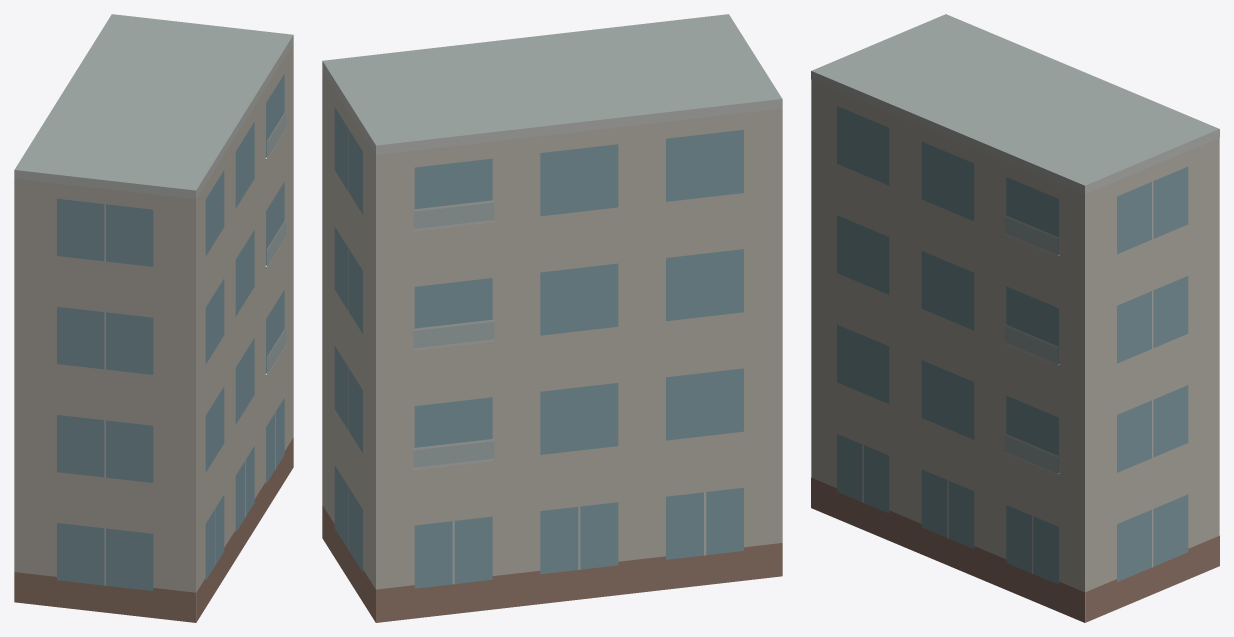
The model's file is survey-upis-32643587.glb.
3 views of the same model, side by side, from view 1: azimuth 30°, elevation 25°; view 2: azimuth 150°, elevation 25°; view 3: azimuth 270°, elevation 25° (orthographic). The views are drawn at different scales.
Parts seen in each view (by area): view 1: survey-upis-32643587.tmp; view 2: survey-upis-32643587.tmp; view 3: survey-upis-32643587.tmp.
Part boxes in pixels (x1,y1,x2,y2): survey-upis-32643587.tmp: (14,14,293,622); survey-upis-32643587.tmp: (322,14,782,622); survey-upis-32643587.tmp: (811,14,1219,622).
Bounding box in the file's own units: 10.28 × 12.2 × 10.34.
